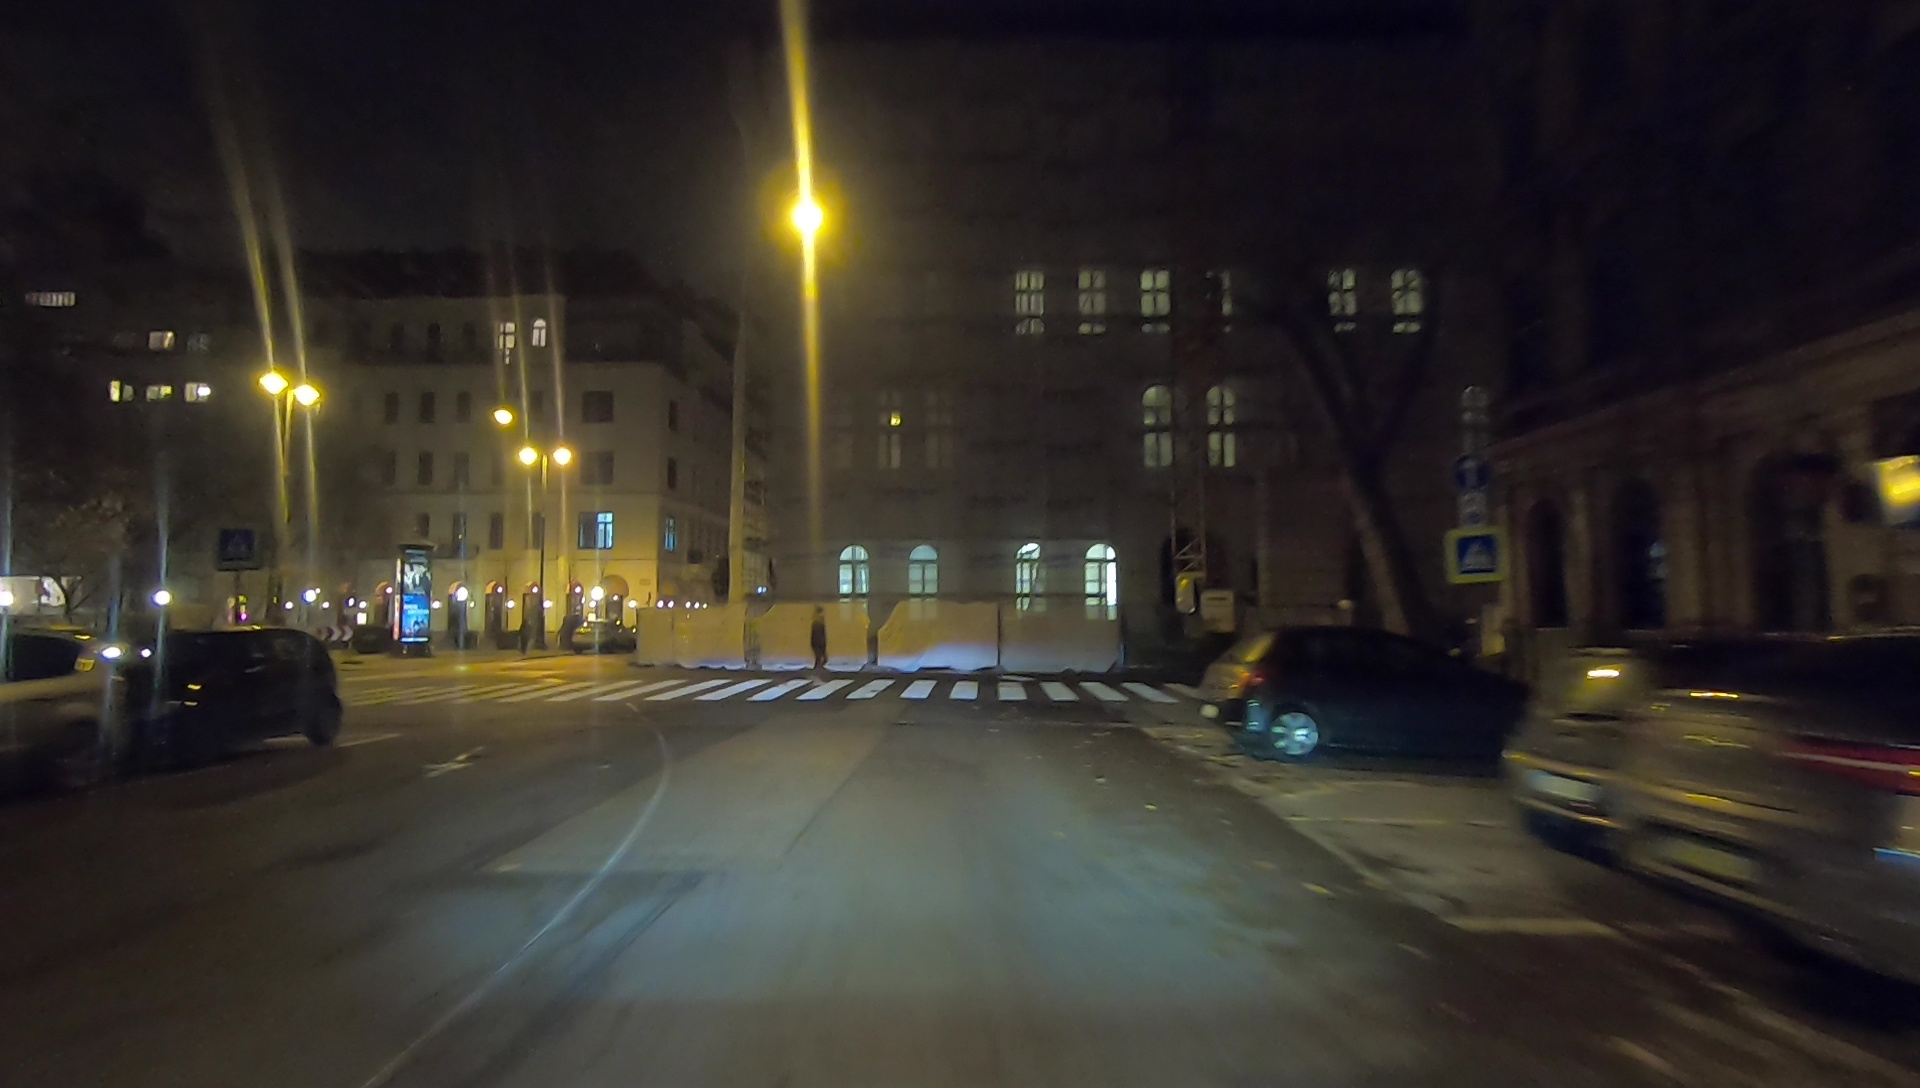person: (804, 602, 834, 678)
